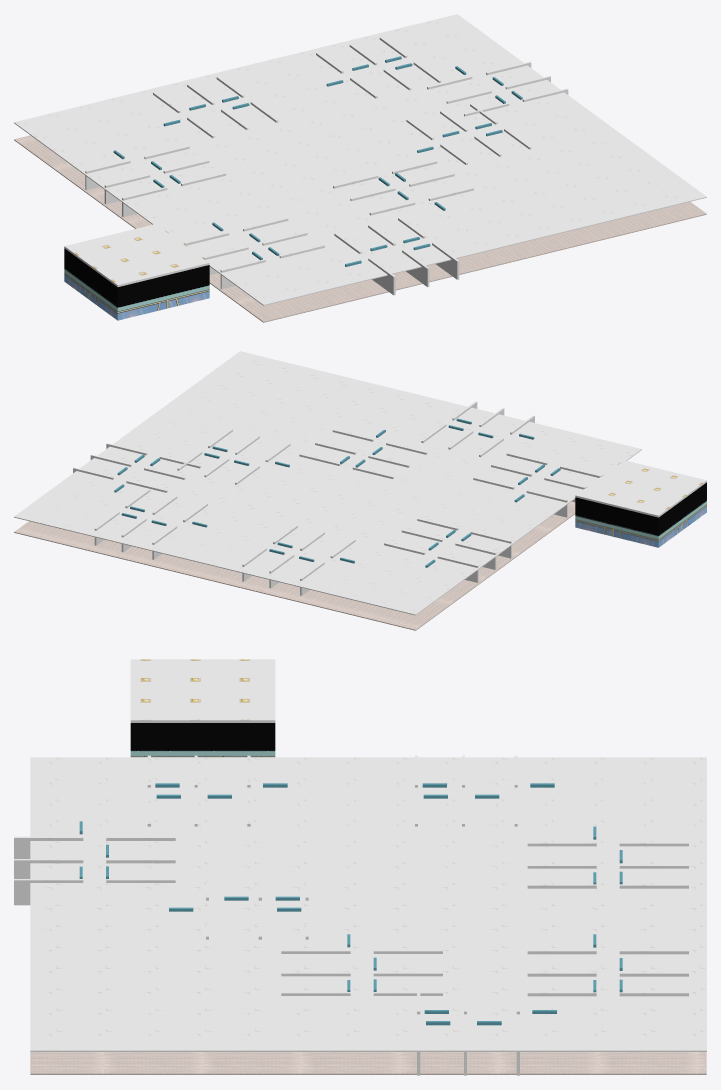
File: intro13_brush.glb
The picture shows the model from 3 angles, top to bottom: view 1: azimuth 30°, elevation 25°; view 2: azimuth 150°, elevation 25°; view 3: azimuth 270°, elevation 25°; orthographic projection. The views are drawn at different scales.
Parts seen in each view (by area): view 1: intro13; view 2: intro13; view 3: intro13.
Boxes of the visible parts, x1,y1,x2,y2 form: intro13: (14,14,706,322); intro13: (14,351,706,630); intro13: (14,659,706,1075).
Bounding box in the file's own units: 4499 × 286 × 3582.
9 materials, 9 textured.
